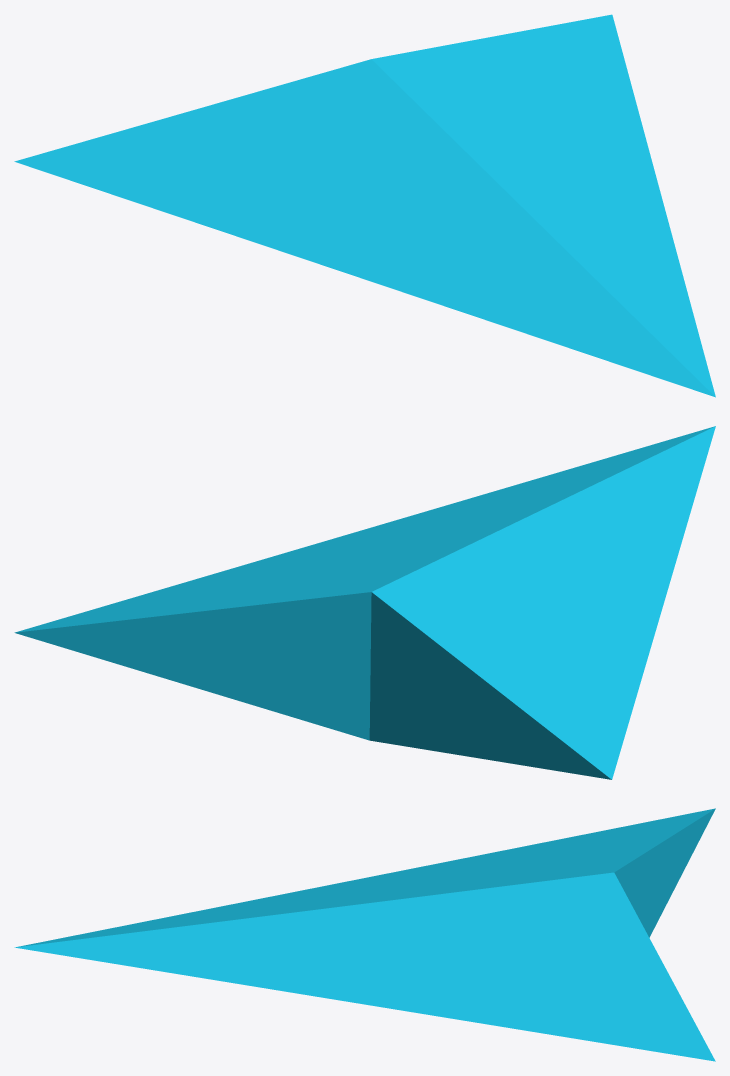
The model's file is arrow_chevron.glb.
The picture shows the model from 3 angles, top to bottom: view 1: azimuth 30°, elevation 25°; view 2: azimuth 150°, elevation 25°; view 3: azimuth 270°, elevation 25°; orthographic projection. The views are drawn at different scales.
Parts seen in each view (by area): view 1: group905816428; view 2: group905816428; view 3: group905816428.
Part boxes in pixels (x1,y1,x2,y2): group905816428: [14, 14, 715, 397]; group905816428: [14, 426, 715, 779]; group905816428: [14, 808, 715, 1061].
Size of the model in its own units: 2.87 by 0.6759 by 3.35.
